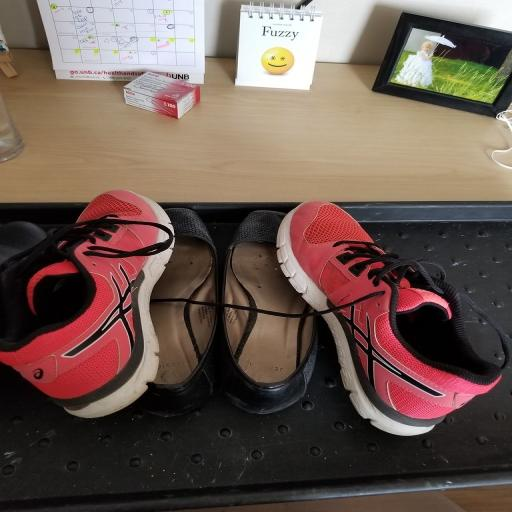shoe: (278, 201, 502, 435), (0, 190, 174, 418)
